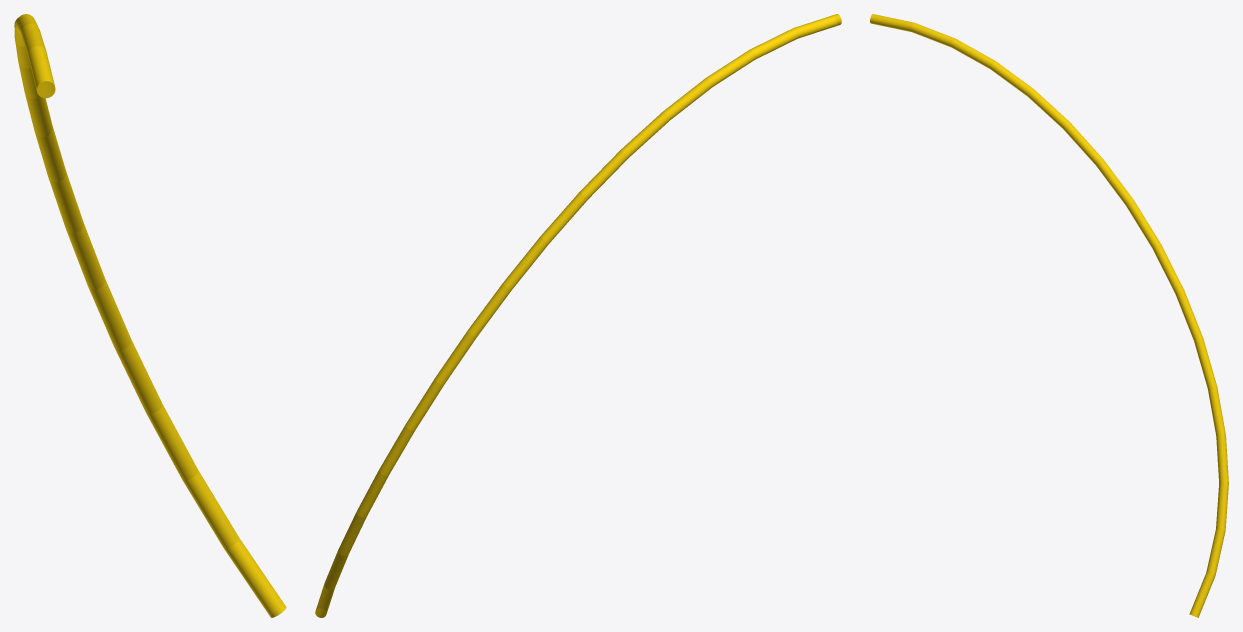
The model's file is Event_420107950_track_38.fbx.
The picture shows the model from 3 angles, left to right: view 1: azimuth 30°, elevation 25°; view 2: azimuth 150°, elevation 25°; view 3: azimuth 270°, elevation 25°; orthographic projection. The views are drawn at different scales.
Visible parts, largest first — view 1: Model; view 2: Model; view 3: Model.
Boxes of the visible parts, x1,y1,x2,y2 form: Model: (14, 14, 286, 617); Model: (315, 14, 841, 617); Model: (870, 14, 1228, 617).
Bounding box in the file's own units: 1.36 × 2.09 × 1.45.
